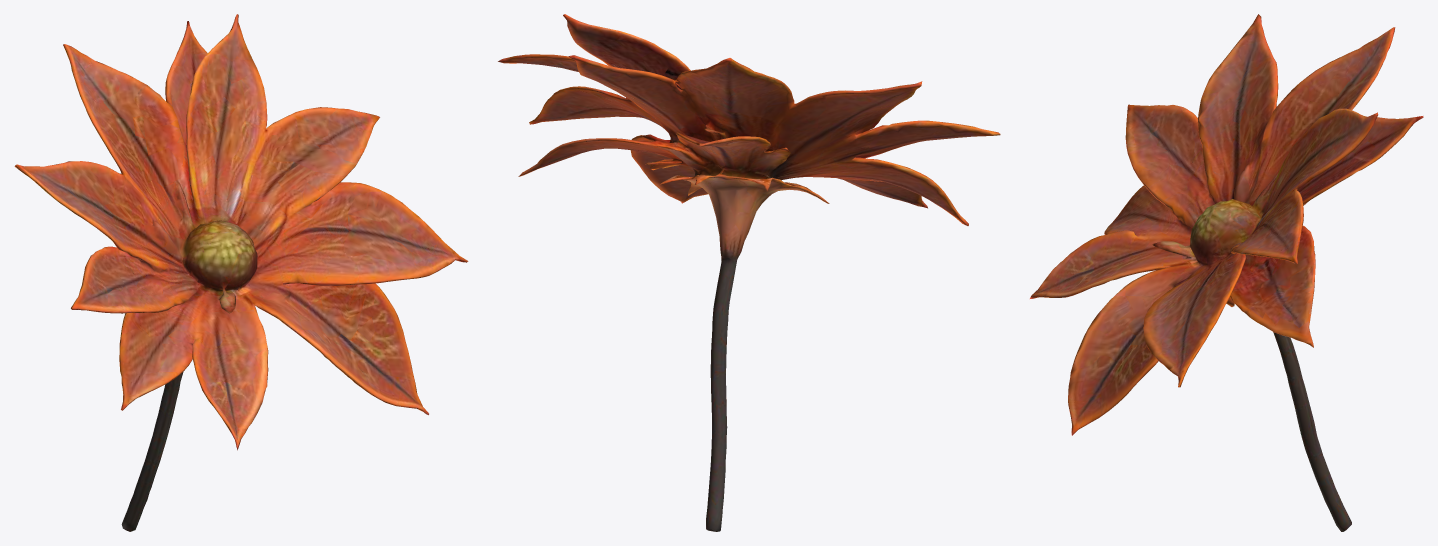
The picture shows the model from 3 angles, left to right: view 1: azimuth 30°, elevation 25°; view 2: azimuth 150°, elevation 25°; view 3: azimuth 270°, elevation 25°; orthographic projection. The views are drawn at different scales.
Bounding box in the file's own units: 1.85 × 2 × 1.48.
1 material, 1 textured.
